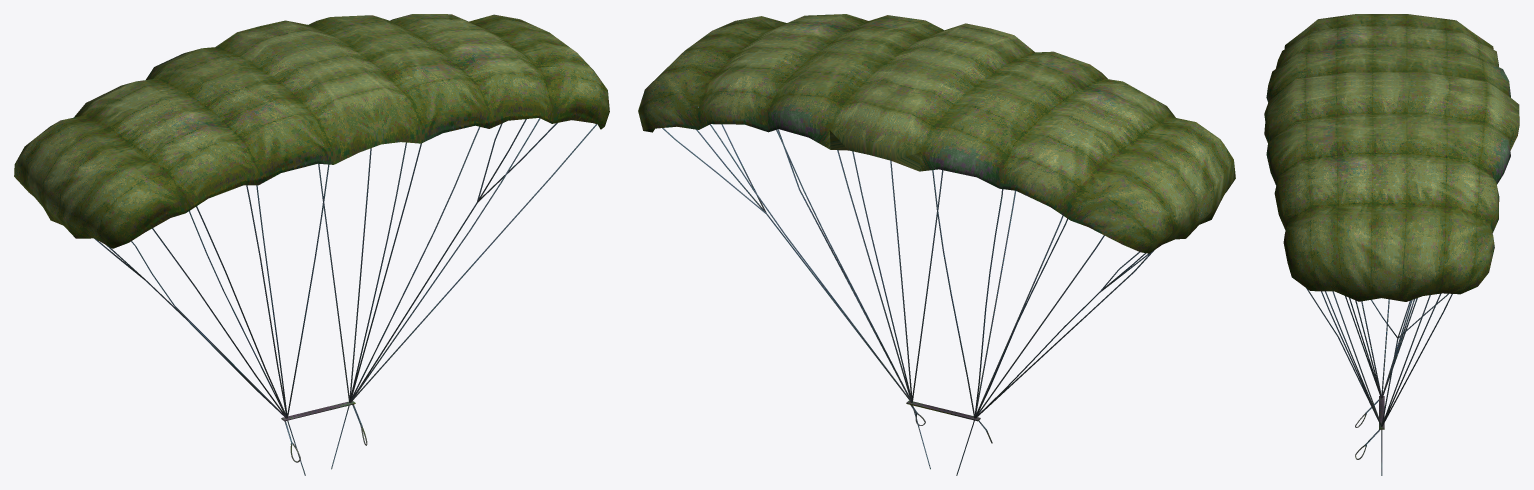
The model's file is Parachute-1.FBX.
3 views of the same model, side by side, from view 1: azimuth 30°, elevation 25°; view 2: azimuth 150°, elevation 25°; view 3: azimuth 270°, elevation 25° (orthographic). The views are drawn at different scales.
Parts seen in each view (by area): view 1: Parachute; view 2: Parachute; view 3: Parachute.
Boxes of the visible parts, left/top/right/bottom form: Parachute: left=14, top=14, right=609, bottom=475; Parachute: left=638, top=14, right=1235, bottom=475; Parachute: left=1264, top=14, right=1519, bottom=475.
Bounding box in the file's own units: 349 × 262 × 157.
Materials: 1 (1 with a texture image).
